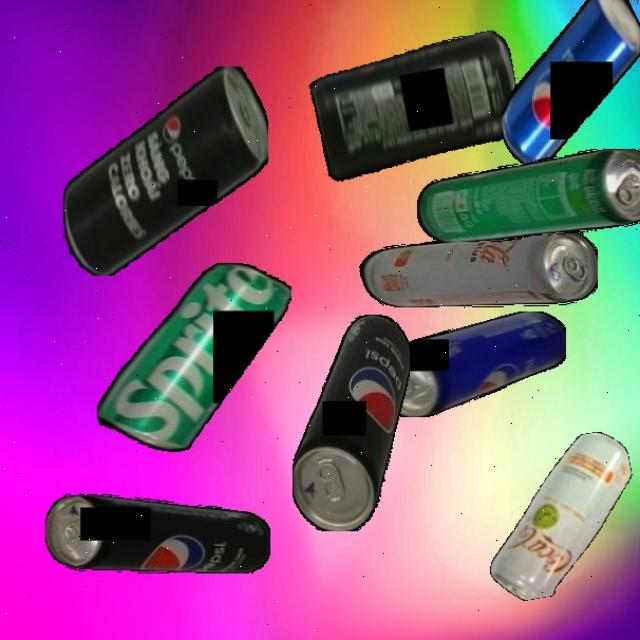debris: (62, 66, 268, 276), (96, 263, 292, 452), (306, 28, 527, 184), (470, 428, 640, 605), (291, 314, 410, 531), (500, 0, 640, 168), (416, 149, 640, 242), (373, 311, 566, 417), (356, 230, 598, 308), (46, 493, 270, 574)
